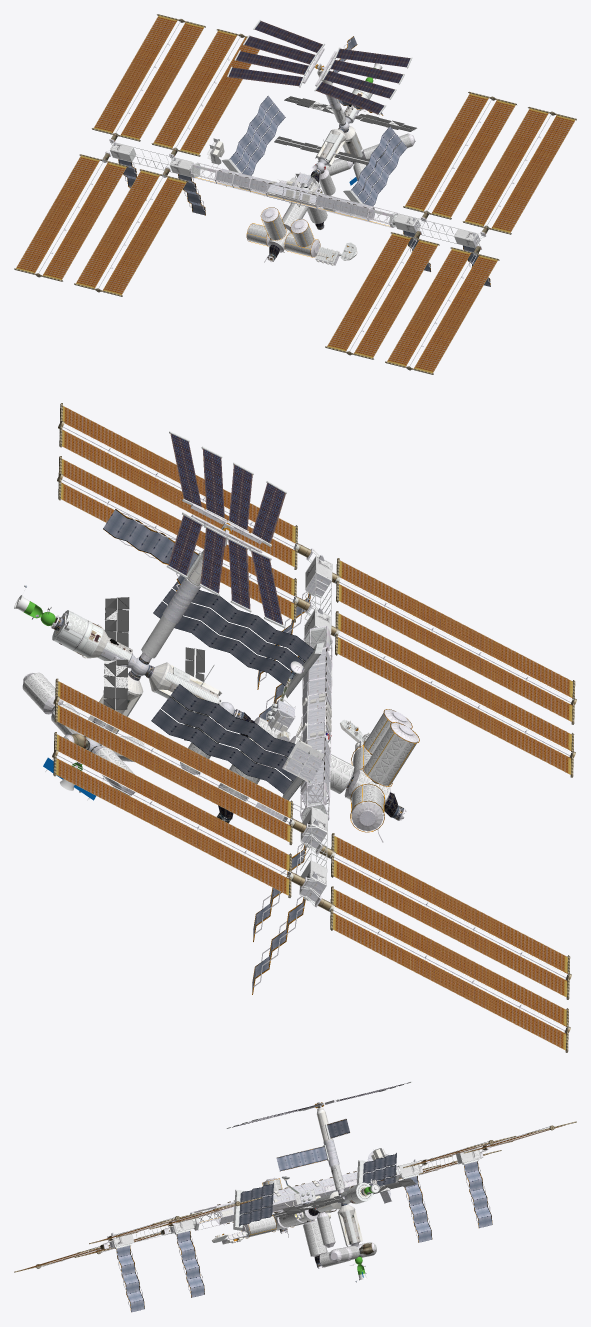
Rendered from iss.glb.
3 views of the same model, one above another, from view 1: azimuth 30°, elevation 25°; view 2: azimuth 150°, elevation 25°; view 3: azimuth 270°, elevation 25° (orthographic). The views are drawn at different scales.
Parts seen in each view (by area): view 1: iss_issins, iss_iss_dc, primitive_0, primitive_1.001, primitive_10, iss_issins_split; view 2: iss_issins, iss_iss_dc, primitive_0, primitive_1.001, iss_issins_split, primitive_10; view 3: iss_issins, iss_iss_dc, primitive_0, primitive_1.001, primitive_10, iss_issins_split.
Part boxes in pixels (x1=…): iss_issins: x1=14, y1=14, x2=576, y2=374; iss_iss_dc: x1=113, y1=63, x2=479, y2=265; primitive_0: x1=39, y1=21, x2=553, y2=367; primitive_1.001: x1=106, y1=20, x2=484, y2=263; primitive_10: x1=110, y1=105, x2=476, y2=248; iss_issins_split: x1=274, y1=96, x2=416, y2=167; iss_issins: x1=52, y1=403, x2=576, y2=1052; iss_iss_dc: x1=22, y1=522, x2=417, y2=901; primitive_0: x1=23, y1=423, x2=573, y2=1032; primitive_1.001: x1=63, y1=431, x2=383, y2=906; iss_issins_split: x1=103, y1=597, x2=204, y2=741; primitive_10: x1=141, y1=556, x2=331, y2=893; iss_issins: x1=14, y1=1082, x2=576, y2=1312; iss_iss_dc: x1=109, y1=1102, x2=475, y2=1267; primitive_0: x1=38, y1=1099, x2=549, y2=1307; primitive_1.001: x1=104, y1=1081, x2=486, y2=1249; primitive_10: x1=113, y1=1147, x2=481, y2=1246; iss_issins_split: x1=273, y1=1178, x2=416, y2=1217.
Bounding box in the file's own units: 2.04 × 0.9488 × 2.36.
48 materials, 39 textured.
